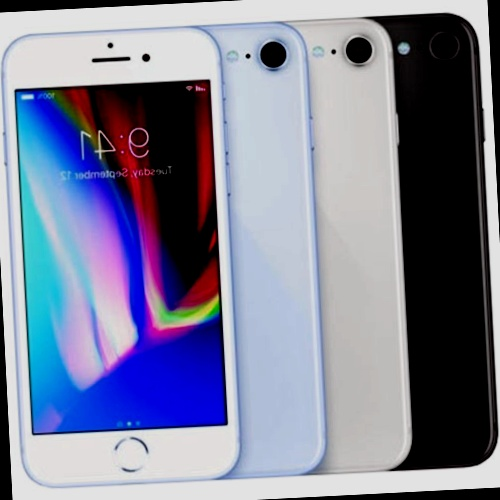iphone: (267, 24, 492, 478)
